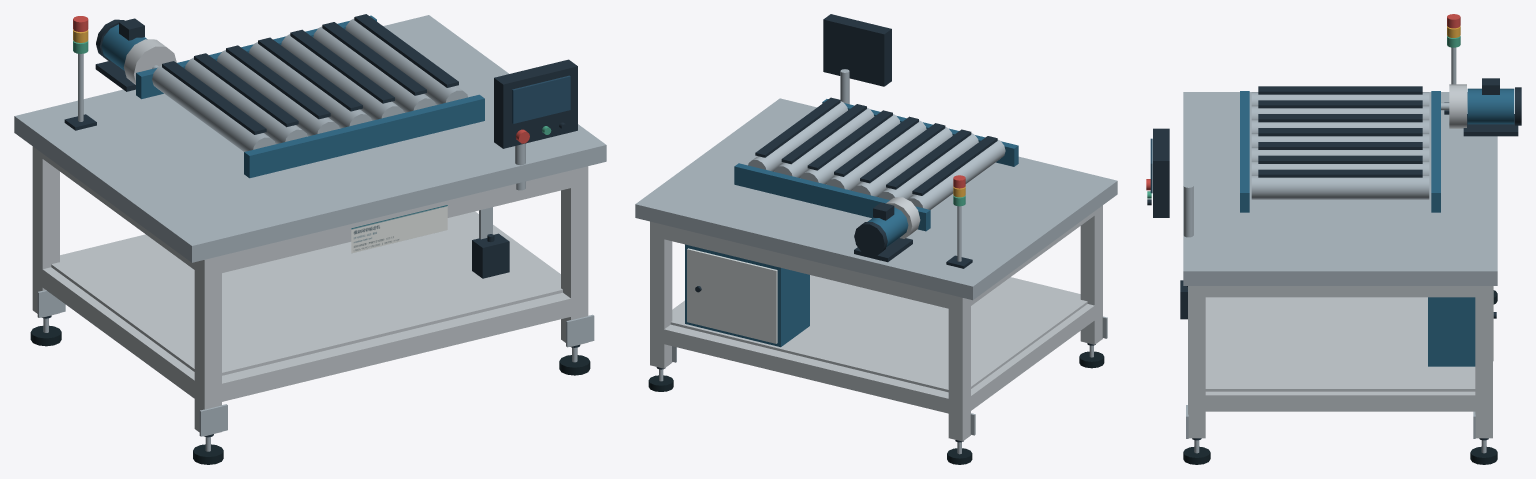
Rendered from modular-belt-cell.glb.
The picture shows the model from 3 angles, left to right: view 1: azimuth 30°, elevation 25°; view 2: azimuth 150°, elevation 25°; view 3: azimuth 270°, elevation 25°; orthographic projection. The views are drawn at different scales.
Visible parts, largest first — view 1: ClosedMachineBed_28, LowerShelf_29, SlottedExtrusion_22, TransportRail_49, SlottedExtrusion_23, SlottedExtrusion_8, SlottedExtrusion_24, ConsoleBack_34, SlottedExtrusion_18, SlottedExtrusion_3, TransportRoller_50, OriginalNameplate_42 (+22 smaller); view 2: ClosedMachineBed_28, LowerShelf_29, BackDoor_31, SlottedExtrusion_20, SlottedExtrusion_21, ConsoleBack_34, TransportRail_48, SlottedExtrusion_3, SlottedExtrusion_13, Cabinet_30, SlottedExtrusion_24, SlottedExtrusion_8 (+20 smaller); view 3: ClosedMachineBed_28, LowerShelf_29, SlottedExtrusion_26, TransportRoller_56, SlottedExtrusion_27, Cabinet_30, SlottedExtrusion_13, SlottedExtrusion_18, MotorBody_65, ConsoleBack_34, TransportLink_57, TransportLink_58 (+18 smaller).
Part boxes in pixels (left/top/right/bottom): ClosedMachineBed_28: left=14, top=15, right=606, bottom=262; LowerShelf_29: left=51, top=213, right=562, bottom=375; SlottedExtrusion_22: left=213, top=292, right=570, bottom=403; TransportRail_49: left=244, top=94, right=484, bottom=178; SlottedExtrusion_23: left=213, top=170, right=570, bottom=275; SlottedExtrusion_8: left=194, top=256, right=221, bottom=435; SlottedExtrusion_24: left=40, top=267, right=199, bottom=398; ConsoleBack_34: left=494, top=59, right=577, bottom=148; SlottedExtrusion_18: left=561, top=166, right=588, bottom=346; SlottedExtrusion_3: left=32, top=146, right=59, bottom=317; TransportRoller_50: left=152, top=65, right=275, bottom=151; OriginalNameplate_42: left=351, top=205, right=447, bottom=253; ClosedMachineBed_28: left=635, top=98, right=1117, bottom=300; LowerShelf_29: left=670, top=275, right=1087, bottom=392; BackDoor_31: left=687, top=248, right=777, bottom=343; SlottedExtrusion_20: left=664, top=324, right=948, bottom=413; SlottedExtrusion_21: left=658, top=225, right=955, bottom=309; ConsoleBack_34: left=823, top=14, right=891, bottom=86; TransportRail_48: left=734, top=163, right=930, bottom=231; SlottedExtrusion_3: left=948, top=294, right=970, bottom=441; SlottedExtrusion_13: left=650, top=221, right=672, bottom=368; Cabinet_30: left=685, top=244, right=809, bottom=347; SlottedExtrusion_24: left=966, top=303, right=1098, bottom=413; SlottedExtrusion_8: left=1080, top=205, right=1102, bottom=344; ClosedMachineBed_28: left=1183, top=92, right=1497, bottom=285; LowerShelf_29: left=1205, top=297, right=1475, bottom=391; SlottedExtrusion_26: left=1197, top=391, right=1483, bottom=411; TransportRoller_56: left=1251, top=175, right=1429, bottom=199; SlottedExtrusion_27: left=1197, top=286, right=1483, bottom=297; Cabinet_30: left=1428, top=297, right=1475, bottom=366; SlottedExtrusion_13: left=1475, top=286, right=1492, bottom=438; SlottedExtrusion_18: left=1188, top=286, right=1205, bottom=438; MotorBody_65: left=1467, top=88, right=1514, bottom=124; ConsoleBack_34: left=1153, top=128, right=1169, bottom=217; TransportLink_57: left=1258, top=86, right=1422, bottom=94; TransportLink_58: left=1258, top=100, right=1422, bottom=108.
Bounding box in the file's own units: 1.55 × 1.18 × 1.37.
11 materials, 1 textured.
